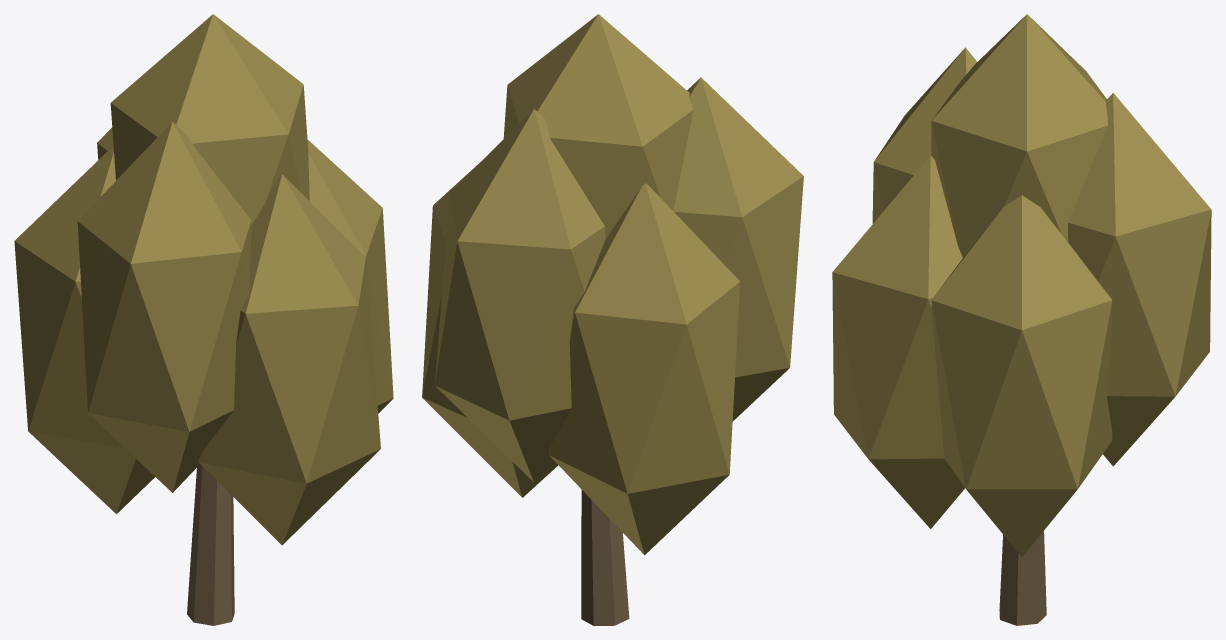
Rendered from broadleaf_gold.glb.
The picture shows the model from 3 angles, left to right: view 1: azimuth 30°, elevation 25°; view 2: azimuth 150°, elevation 25°; view 3: azimuth 270°, elevation 25°; orthographic projection.
Visible parts, largest first — view 1: broadleaf_gold_gold, broadleaf_gold_oak_dark; view 2: broadleaf_gold_gold, broadleaf_gold_oak_dark; view 3: broadleaf_gold_gold, broadleaf_gold_oak_dark.
Boxes of the visible parts, x1,y1,x2,y2 form: broadleaf_gold_gold: (14,14,393,545); broadleaf_gold_oak_dark: (187,464,234,625); broadleaf_gold_gold: (422,14,803,555); broadleaf_gold_oak_dark: (581,490,629,625); broadleaf_gold_gold: (832,14,1211,556); broadleaf_gold_oak_dark: (999,531,1046,625).
Bounding box in the file's own units: 3.66 × 6.46 × 3.67.
